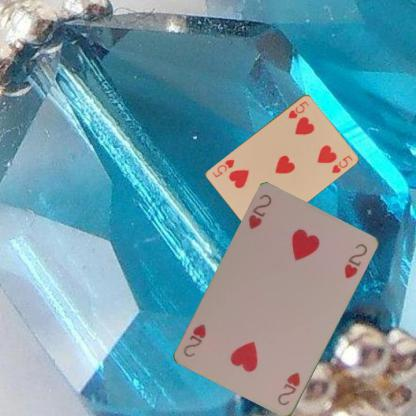2h: (246, 192, 273, 231), (274, 370, 302, 407)
5h: (286, 98, 310, 120)
